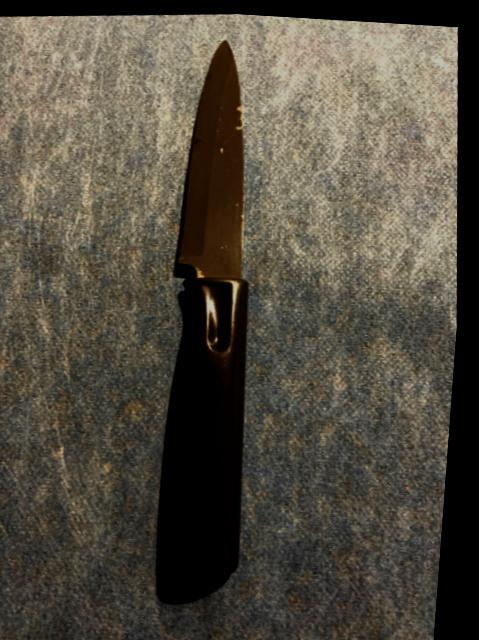Knife: (164, 42, 248, 589)
